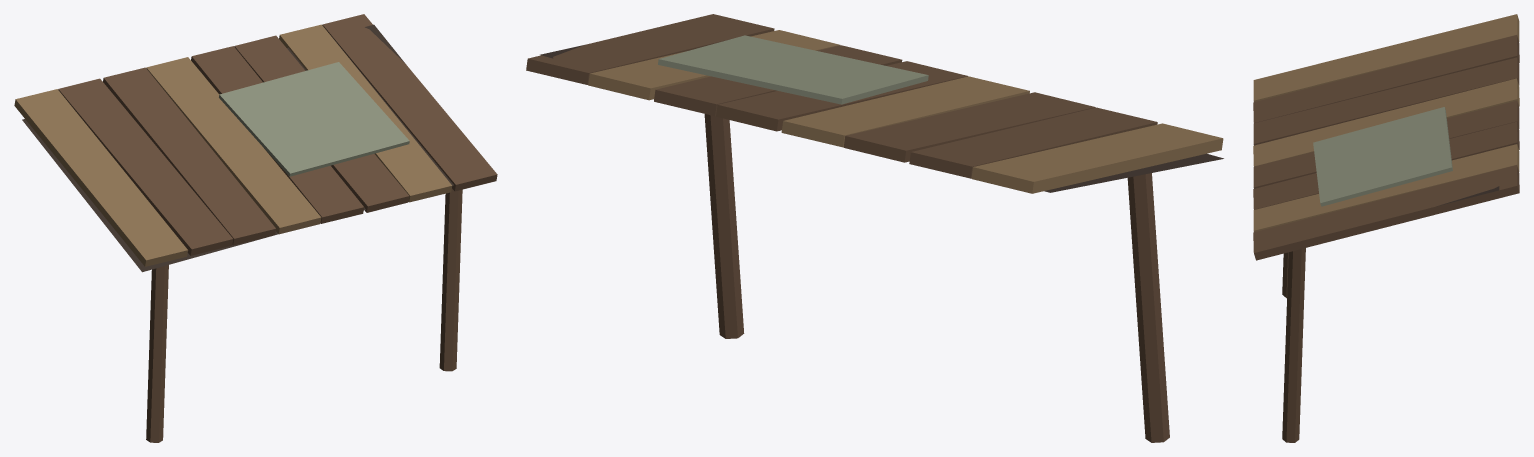
The model's file is lean_to.glb.
3 views of the same model, side by side, from view 1: azimuth 30°, elevation 25°; view 2: azimuth 150°, elevation 25°; view 3: azimuth 270°, elevation 25° (orthographic). The views are drawn at different scales.
Parts seen in each view (by area): view 1: cloth roof repair, uneven roof boards, uneven roof boards.002, uneven roof boards.001, uneven roof boards.003, uneven roof boards.007, uneven roof boards.006, uneven roof boards.004, uneven roof boards.005, leaning support.001, leaning support, scrap roof; view 2: cloth roof repair, uneven roof boards, leaning support, uneven roof boards.002, uneven roof boards.001, uneven roof boards.003, uneven roof boards.007, leaning support.001, uneven roof boards.004, uneven roof boards.006, uneven roof boards.005, scrap roof; view 3: cloth roof repair, uneven roof boards.007, uneven roof boards.001, uneven roof boards, uneven roof boards.002, uneven roof boards.003, uneven roof boards.006, leaning support.001, uneven roof boards.005, uneven roof boards.004.
Boxes of the visible parts, x1,y1,x2,y2 form: cloth roof repair: (219,62,409,176); uneven roof boards: (14,89,187,266); uneven roof boards.002: (103,67,275,245); uneven roof boards.001: (58,78,233,255); uneven roof boards.003: (146,57,321,234); uneven roof boards.007: (322,14,497,191); uneven roof boards.006: (279,24,452,202); uneven roof boards.004: (191,46,364,223); uneven roof boards.005: (234,35,409,212); leaning support.001: (439,188,462,371); leaning support: (146,265,168,442); scrap roof: (22,24,453,272); cloth roof repair: (658,35,928,104); uneven roof boards: (971,123,1223,193); leaning support: (1127,173,1169,442); uneven roof boards.002: (843,92,1095,162); uneven roof boards.001: (909,107,1157,178); uneven roof boards.003: (781,76,1029,147); uneven roof boards.007: (526,14,774,84); leaning support.001: (704,114,744,338); uneven roof boards.004: (716,61,967,131); uneven roof boards.006: (588,30,839,100); uneven roof boards.005: (654,45,902,116); scrap roof: (540,45,1223,192); cloth roof repair: (1313,107,1452,206); uneven roof boards.007: (1253,165,1519,260); uneven roof boards.001: (1253,35,1519,123); uneven roof boards: (1253,14,1519,101); uneven roof boards.002: (1253,57,1519,145); uneven roof boards.003: (1253,78,1519,166); uneven roof boards.006: (1253,144,1519,232); leaning support.001: (1282,248,1305,442); uneven roof boards.005: (1253,121,1519,209); uneven roof boards.004: (1253,101,1519,188).
Size of the model in its own units: 1.21 by 0.8653 by 0.7793.
